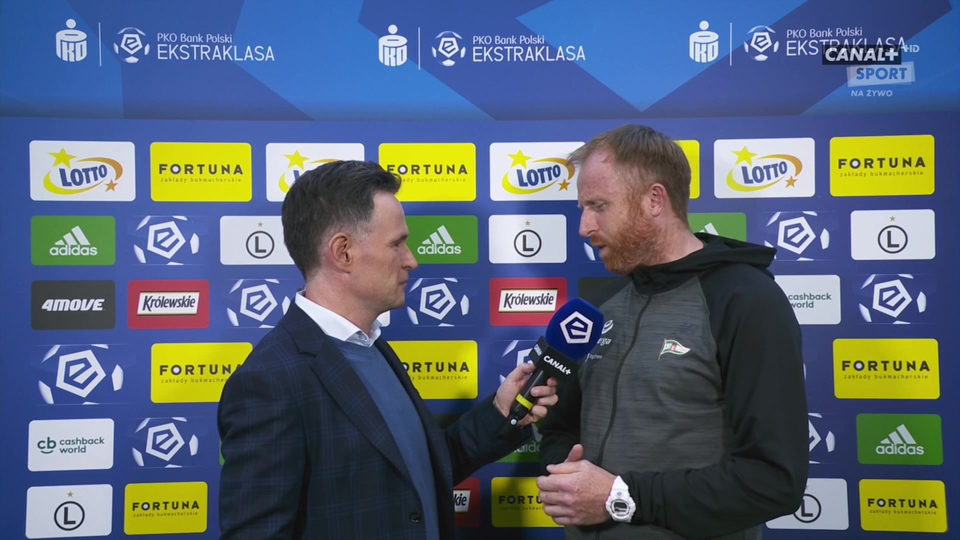Adidas: (875, 422, 924, 454), (50, 225, 97, 254), (416, 225, 462, 254)
